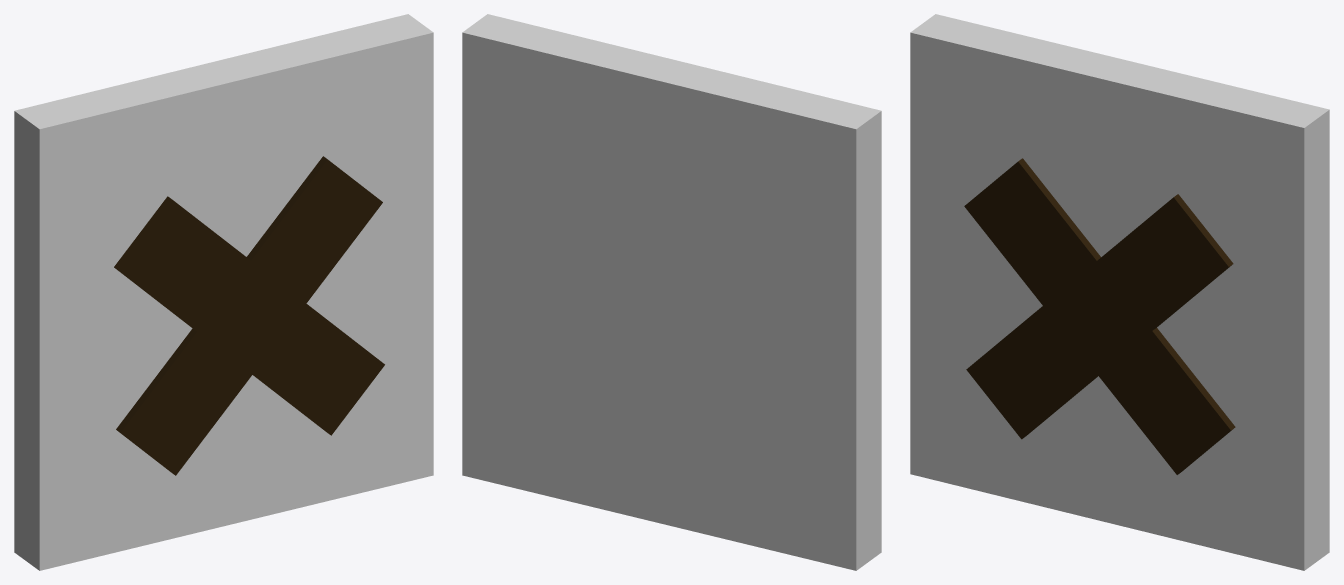
The model's file is button_delete.gltf.
3 renders of one model, left to right at view 1: azimuth 30°, elevation 25°; view 2: azimuth 150°, elevation 25°; view 3: azimuth 330°, elevation 25°, orthographic.
Visible parts, largest first — view 1: ButtonDelete; view 2: ButtonDelete; view 3: ButtonDelete.
Boxes of the visible parts, x1,y1,x2,y2 form: ButtonDelete: (14, 14, 433, 570); ButtonDelete: (462, 14, 881, 570); ButtonDelete: (910, 14, 1329, 570).
Size of the model in its own units: 0.1433 by 0.1539 by 0.0238.
